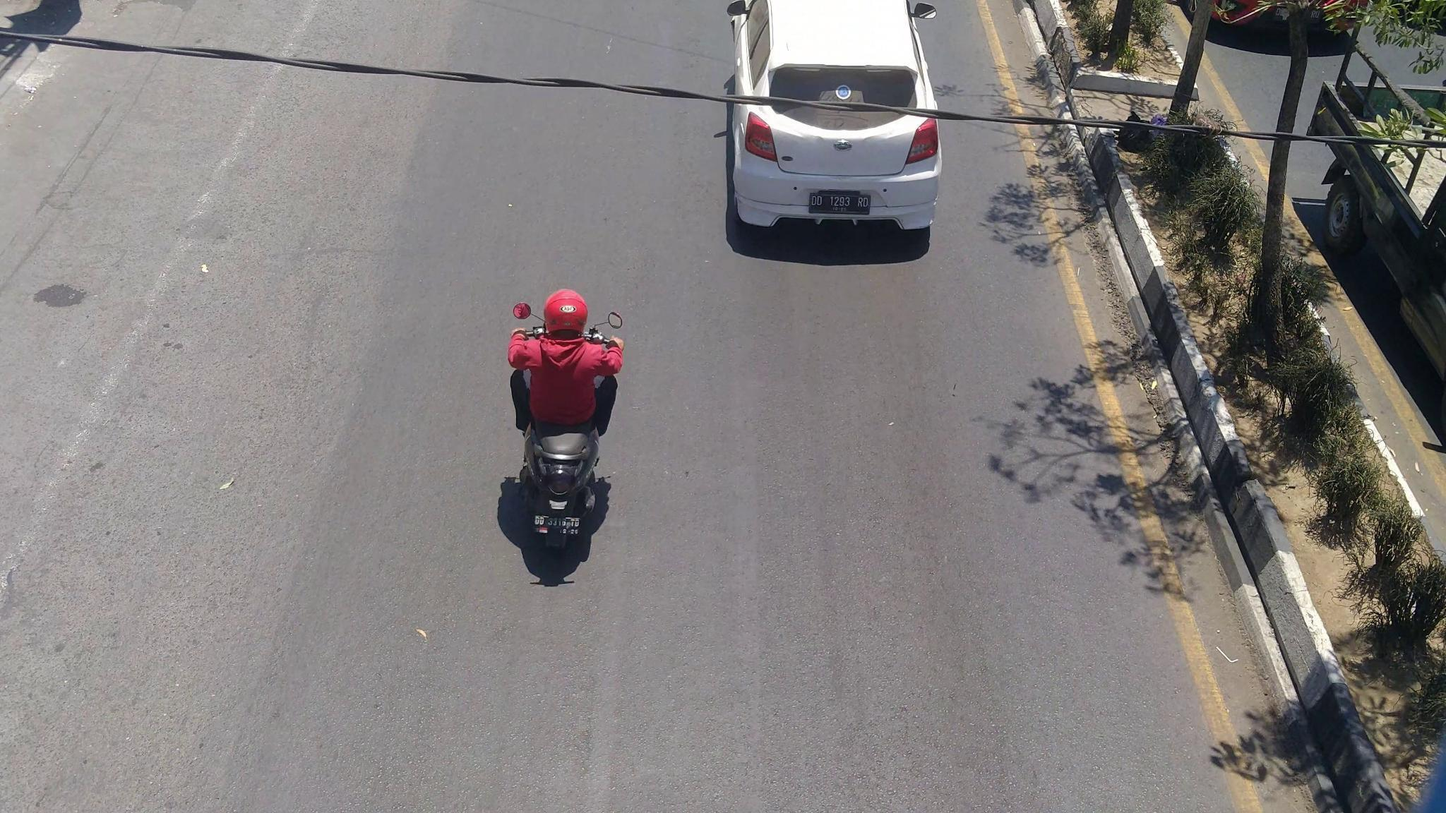Helmet: (538, 282, 595, 341)
bike: (509, 300, 624, 559)
number-plate: (531, 514, 581, 538)
rider: (508, 284, 621, 449)
